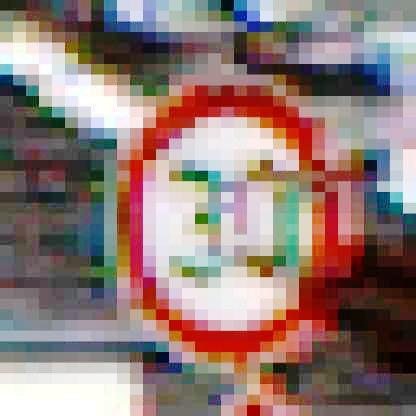Speed Limit -30-: (108, 78, 369, 370)
